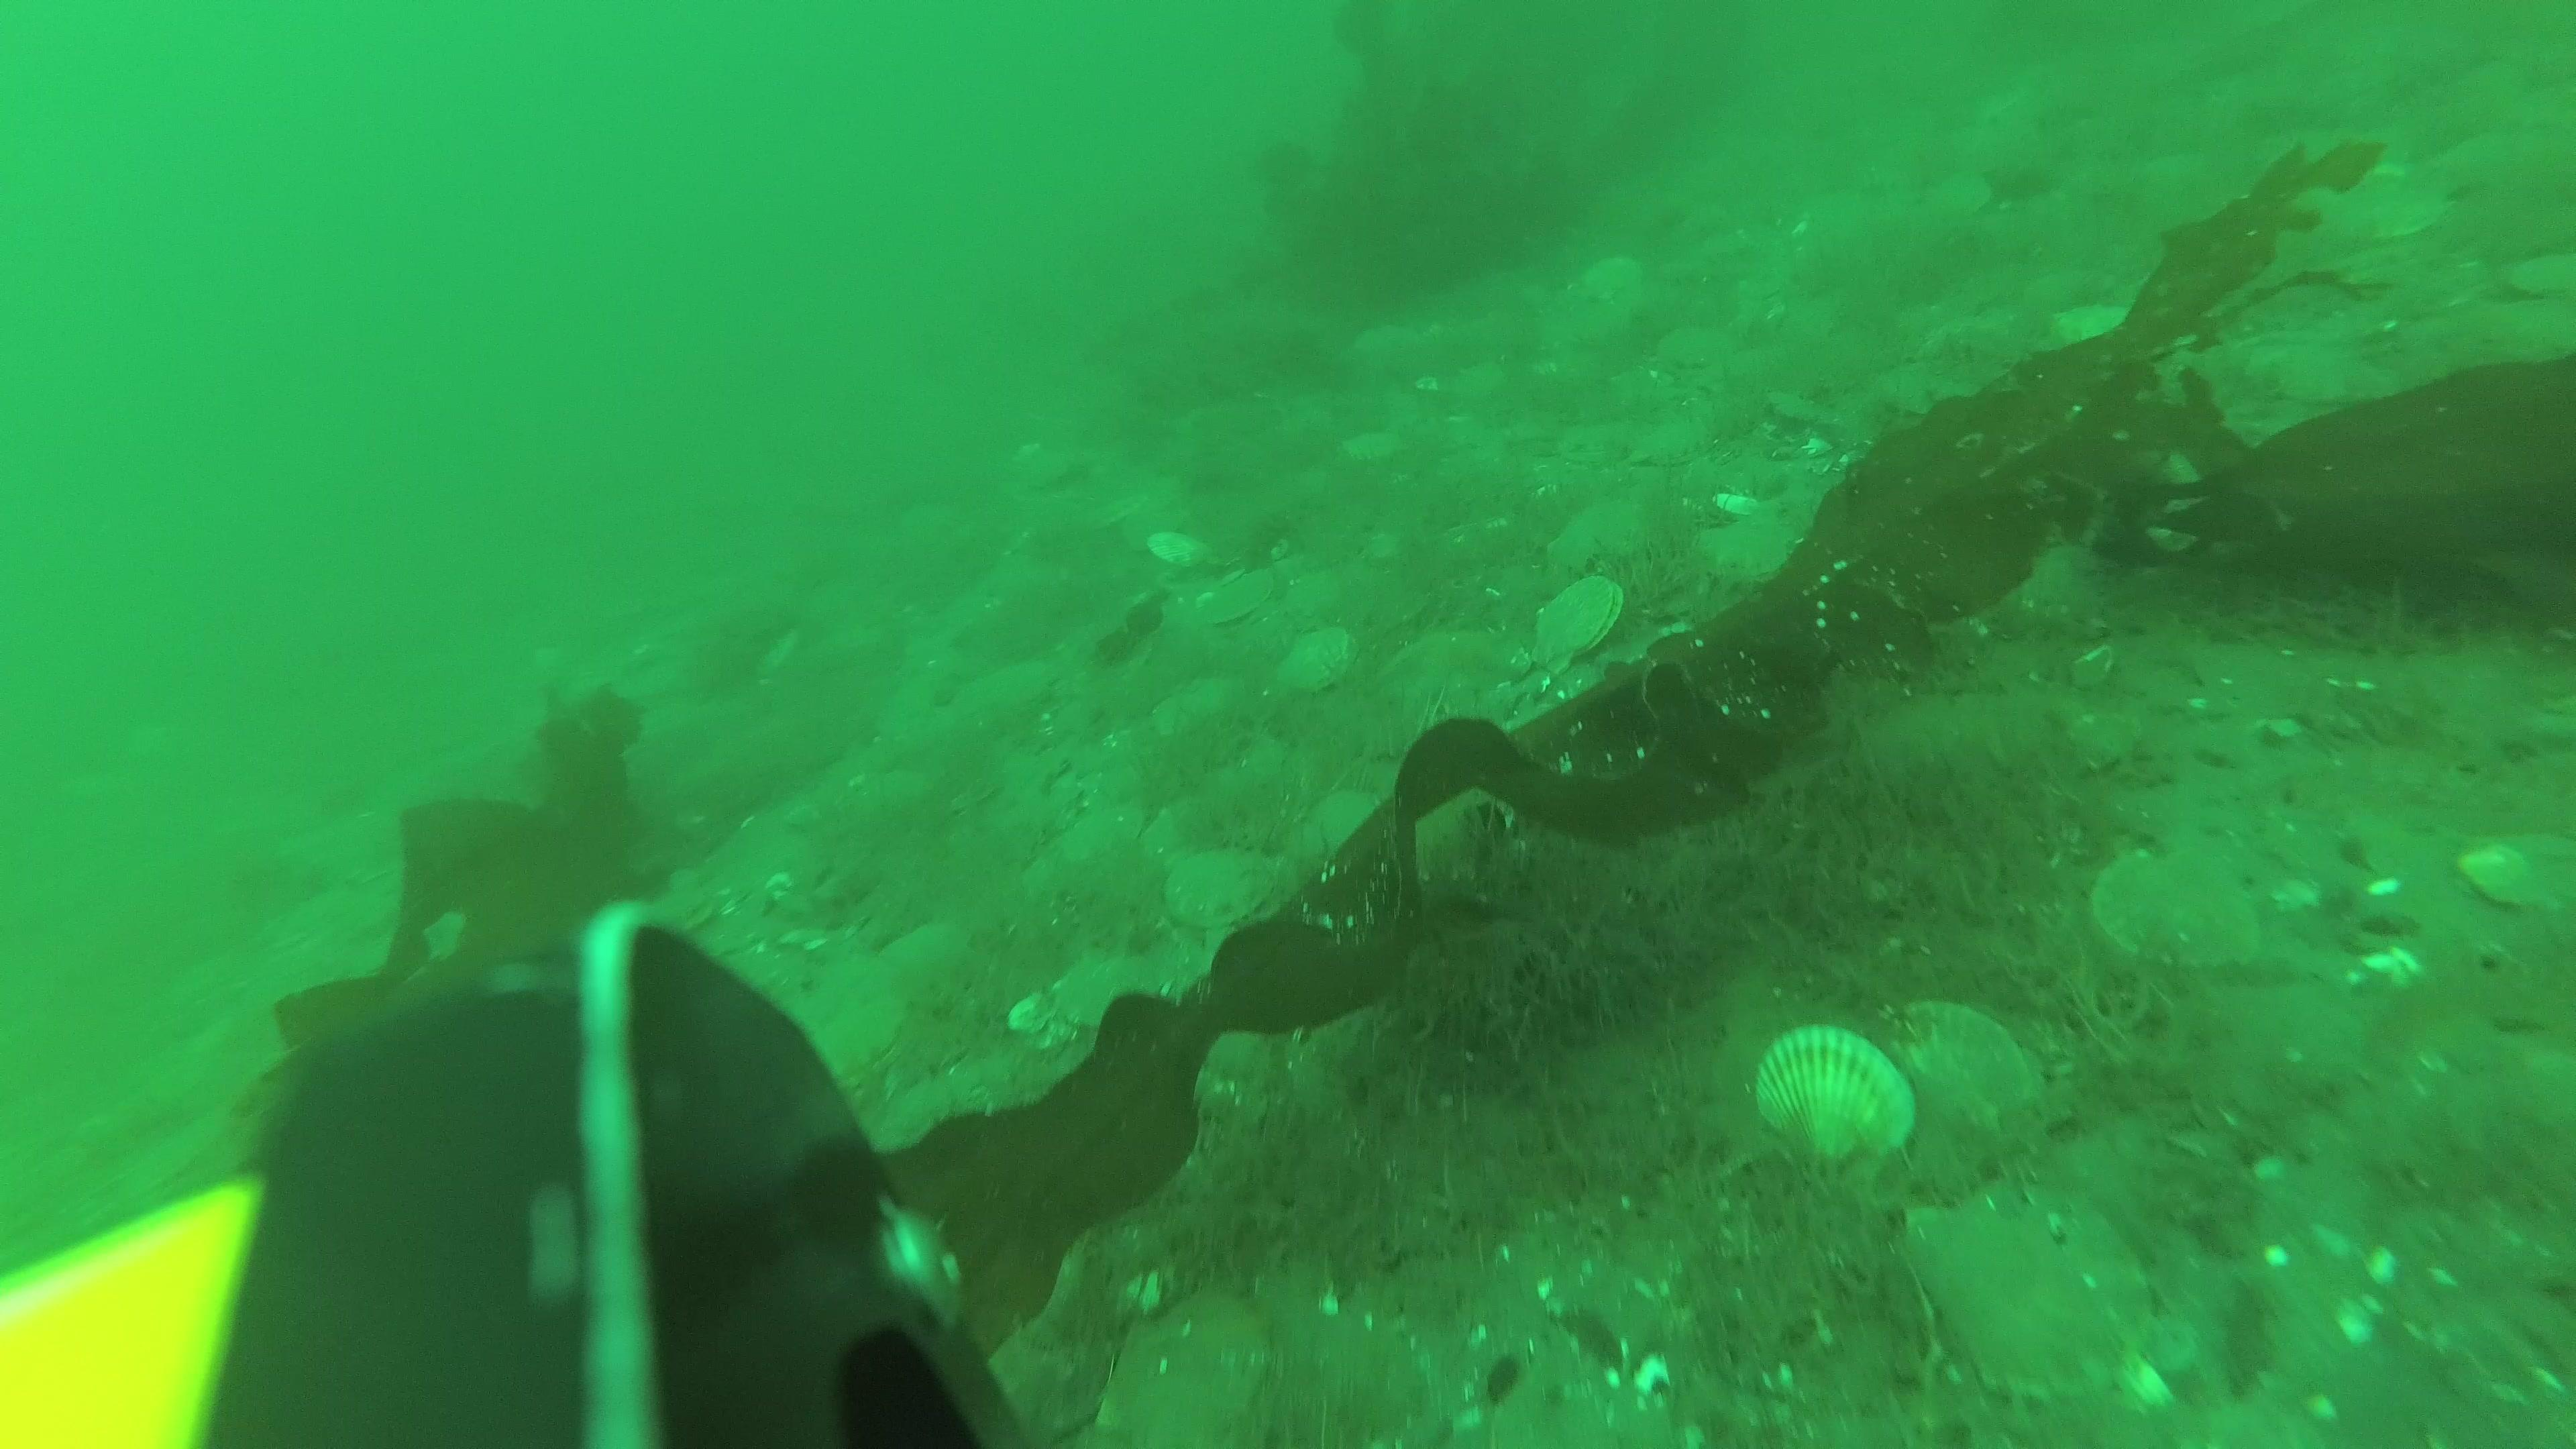scallop: (1920, 1187, 2157, 1387), (1874, 1010, 2024, 1187), (1108, 1302, 1263, 1449), (2102, 839, 2272, 971), (1769, 1030, 1907, 1164), (1391, 621, 1527, 741), (1154, 851, 1283, 934), (1693, 501, 1794, 591), (1534, 575, 1629, 669), (1053, 957, 1166, 1035), (1277, 625, 1371, 702), (1201, 571, 1274, 628), (1141, 527, 1207, 573)
